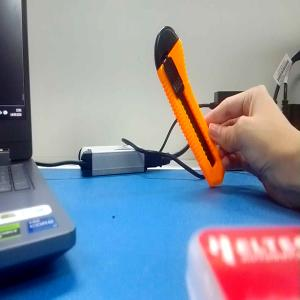estilete: (154, 26, 225, 189)
